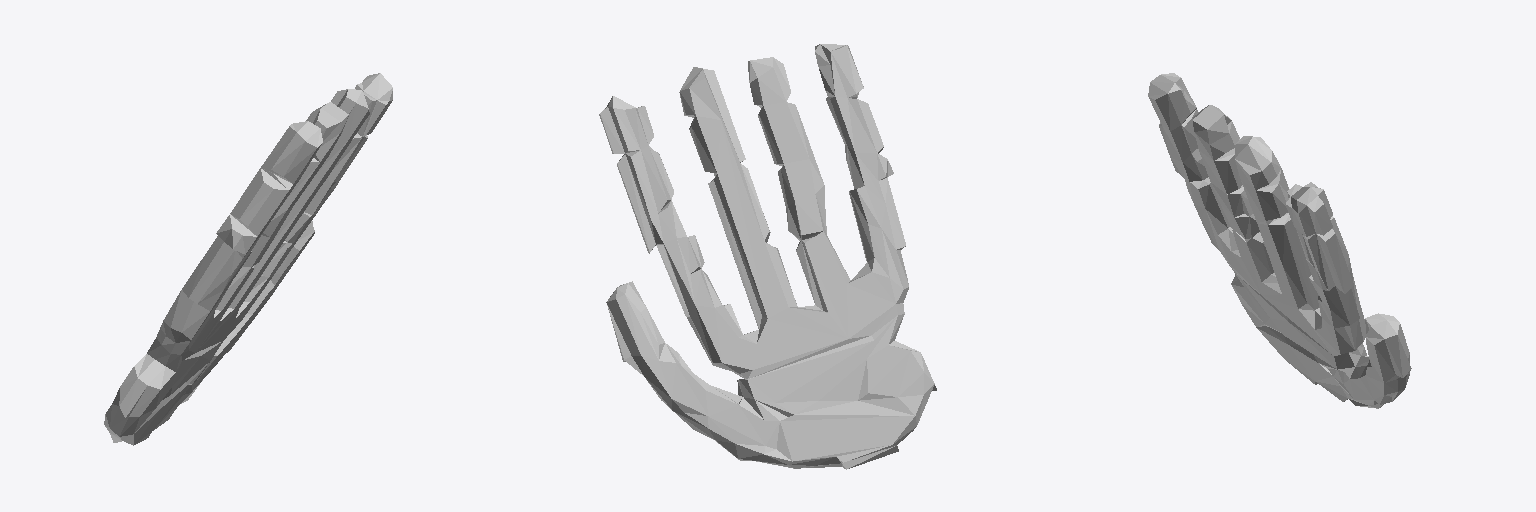
3 renders of one model, left to right at view 1: azimuth 30°, elevation 25°; view 2: azimuth 150°, elevation 25°; view 3: azimuth 270°, elevation 25°, orthographic.
Parts seen in each view (by area): view 1: unknown; view 2: unknown; view 3: unknown.
Boxes of the visible parts, box(x1,y1,x2,y2) form: unknown: box(104, 73, 392, 445); unknown: box(599, 44, 936, 469); unknown: box(1148, 73, 1411, 408).
Bounding box in the file's own units: 0.6805 × 0.7435 × 0.5124.